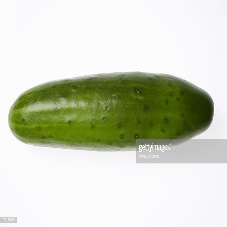cucumber: (8, 71, 215, 152)
